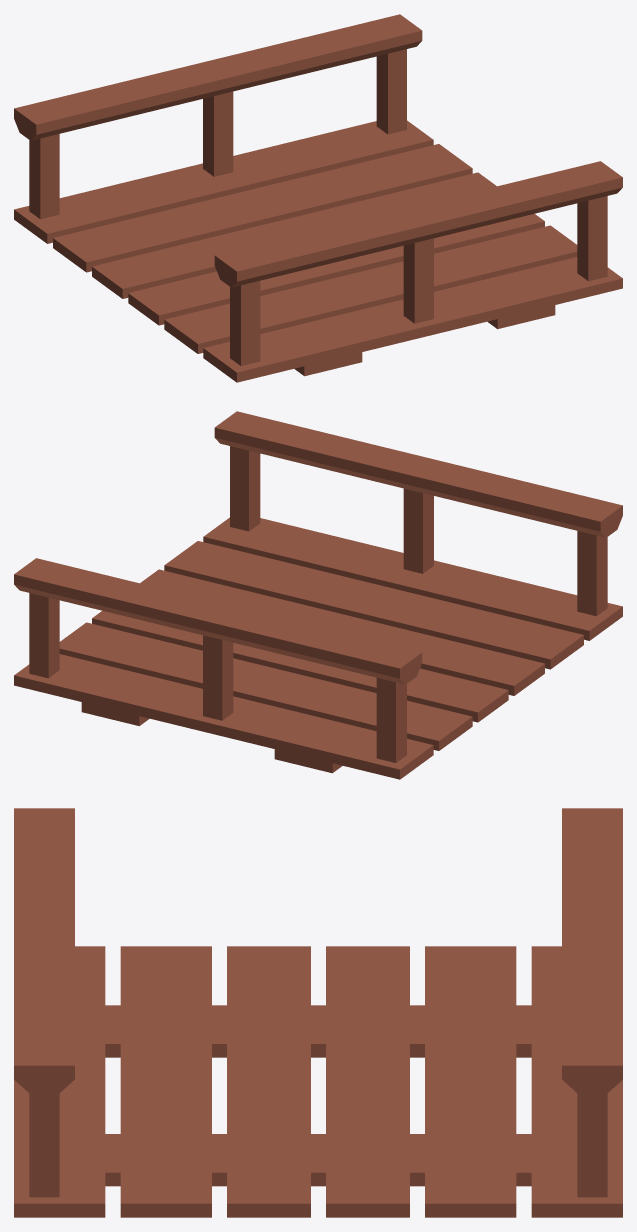
The model's file is scaffold_low_railing 1.fbx.
3 views of the same model, one above another, from view 1: azimuth 30°, elevation 25°; view 2: azimuth 150°, elevation 25°; view 3: azimuth 270°, elevation 25° (orthographic). The views are drawn at different scales.
Parts seen in each view (by area): view 1: scaffold_low_railing; view 2: scaffold_low_railing; view 3: scaffold_low_railing.
Part boxes in pixels (bbox=[...]): scaffold_low_railing: bbox=[14, 14, 622, 382]; scaffold_low_railing: bbox=[14, 411, 622, 779]; scaffold_low_railing: bbox=[14, 808, 622, 1217].
Bounding box in the file's own units: 400 × 120 × 400.
